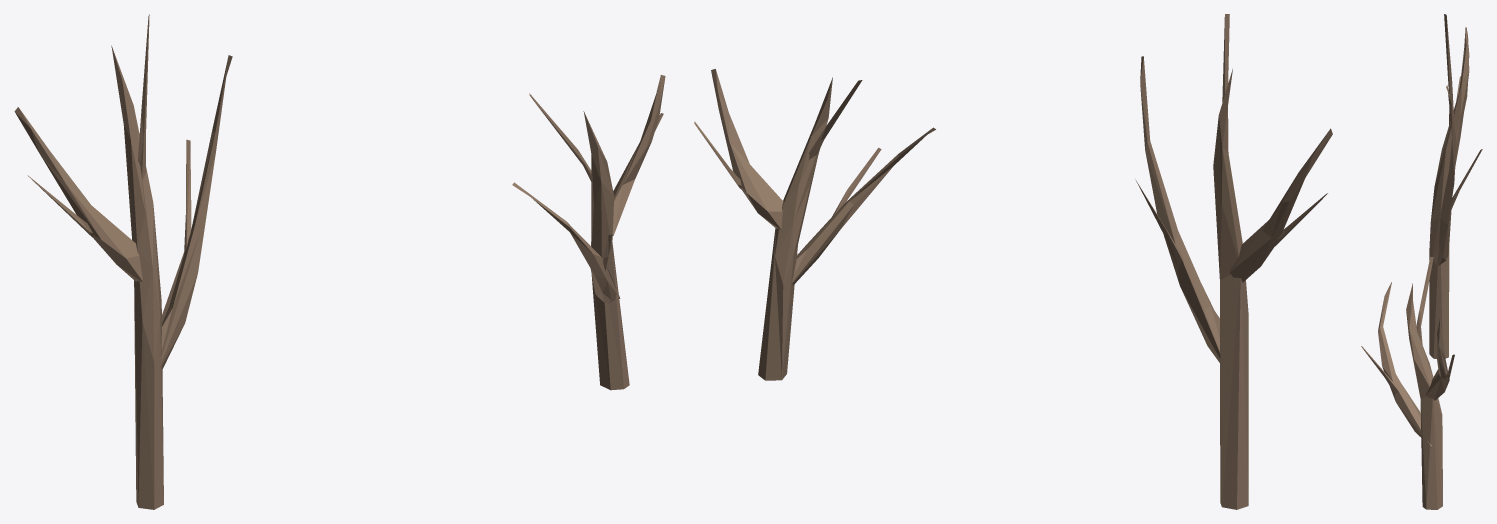
The model's file is baum.fbx.
3 views of the same model, side by side, from view 1: azimuth 30°, elevation 25°; view 2: azimuth 150°, elevation 25°; view 3: azimuth 270°, elevation 25° (orthographic). The views are drawn at different scales.
Visible parts, largest first — view 1: Polygon_Reduction_1, Polygon_Reduction_3; view 2: Polygon_Reduction_1, Polygon_Reduction_3; view 3: Polygon_Reduction_3, Polygon_Reduction_1.
Boxes of the visible parts, <box> form: Polygon_Reduction_1: <box>14,14,232,509</box>; Polygon_Reduction_3: <box>512,75,665,390</box>; Polygon_Reduction_1: <box>1135,14,1332,509</box>; Polygon_Reduction_3: <box>694,69,935,380</box>; Polygon_Reduction_3: <box>1361,256,1454,509</box>; Polygon_Reduction_1: <box>1429,14,1482,358</box>.
Size of the model in its own units: 433 by 314 by 101.
